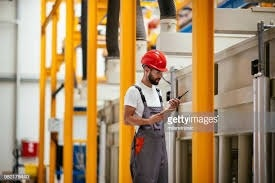helmet: (141, 50, 166, 71)
person with partial safety: (125, 48, 173, 175)
